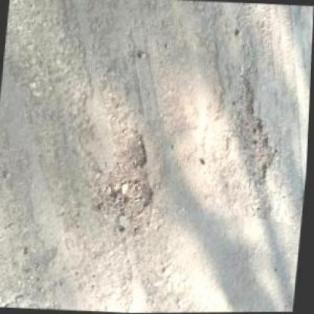Hueco: (225, 75, 284, 188), (92, 129, 163, 220)
